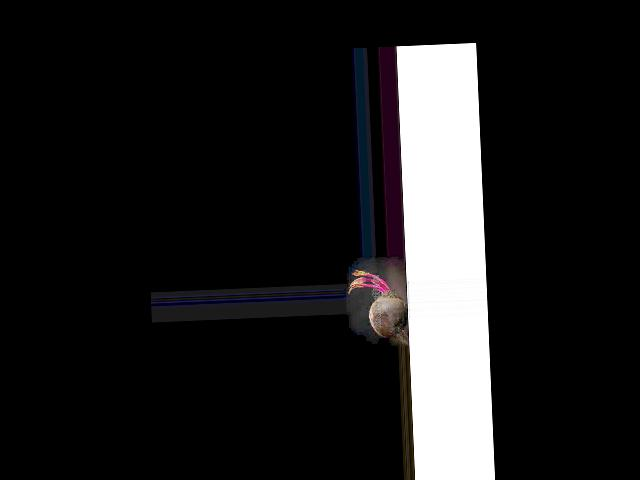beet: (347, 268, 409, 349)
